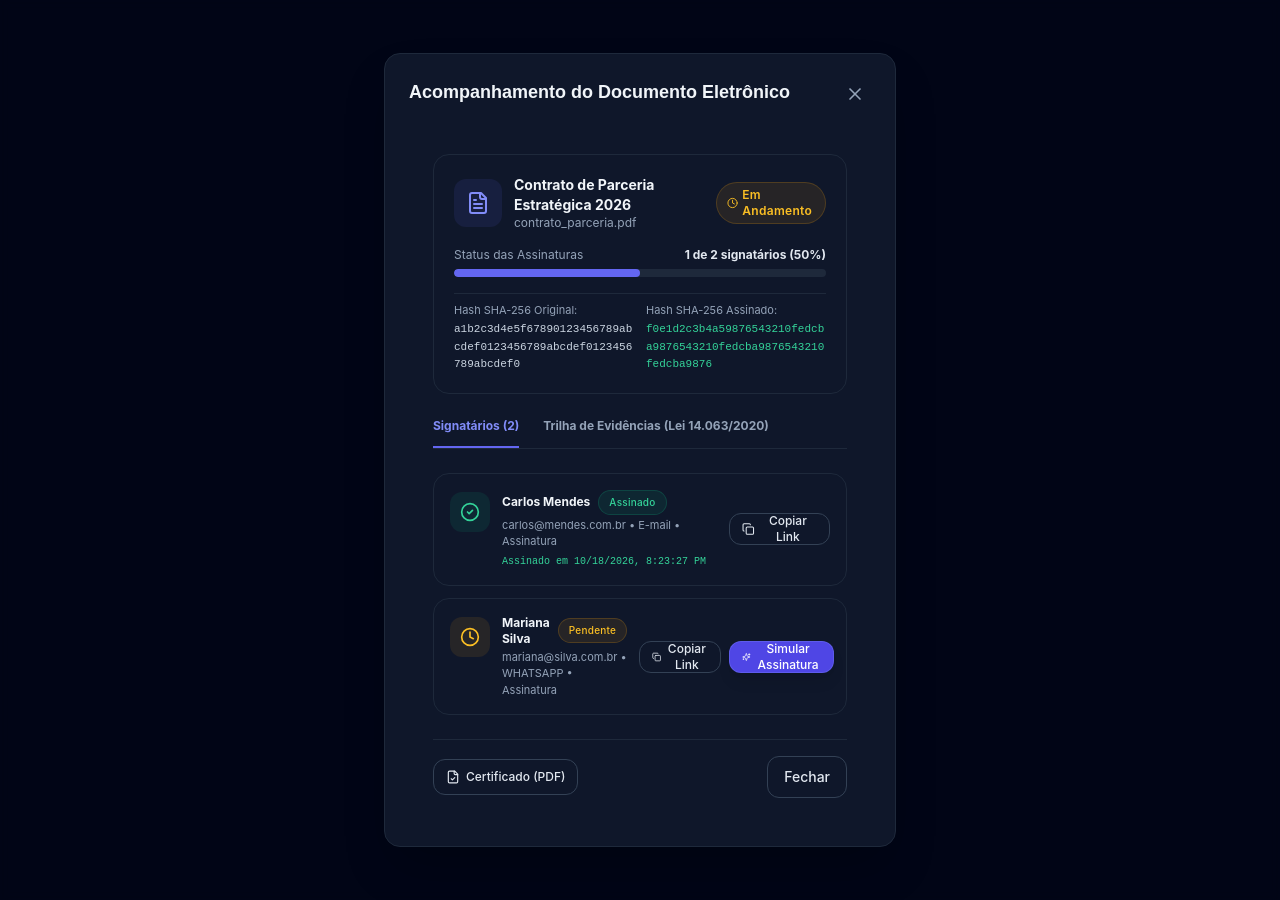
Test: Electronic Signatures Frontend (T-34) › 3. SignatureDetailsModal Component › renders signers list, simulates signing, and switches to evidence audit trail tab
The image size is (1280, 900).
Expected: the heading "Acompanhamento do Documento Eletrônico" is shown, [409, 78, 790, 106]
Expected: the text "Carlos Mendes" is shown, [502, 494, 590, 510]
# Click "Simular Assinatura" on pending signer Mariana Silva
Click the button "Simular Assinatura": (782, 656) [729, 640, 834, 672]
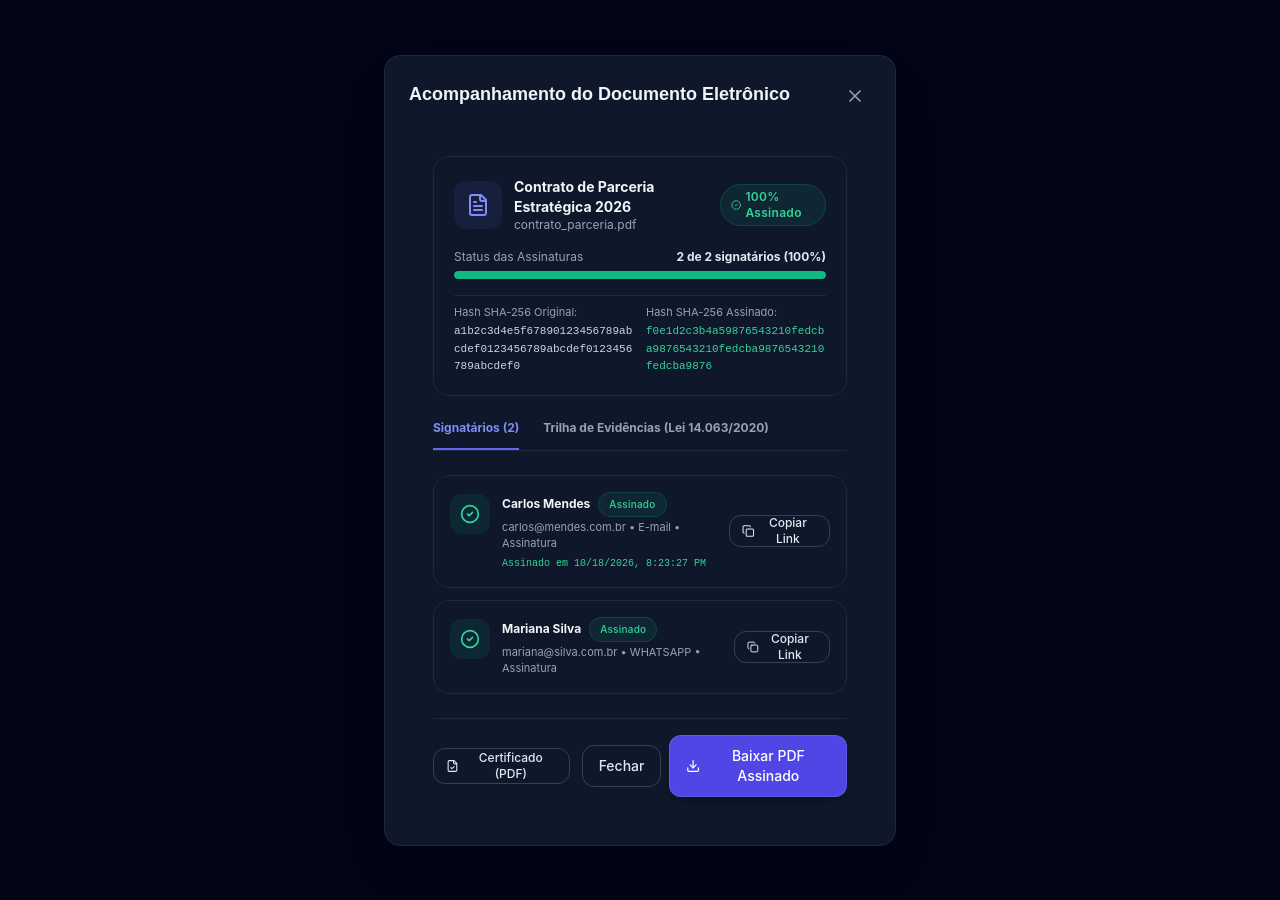
# Switch to Evidence Audit Trail Tab
Click the button "Trilha de Evidências (Lei 14.063/2020)": (656, 434) [543, 420, 769, 450]
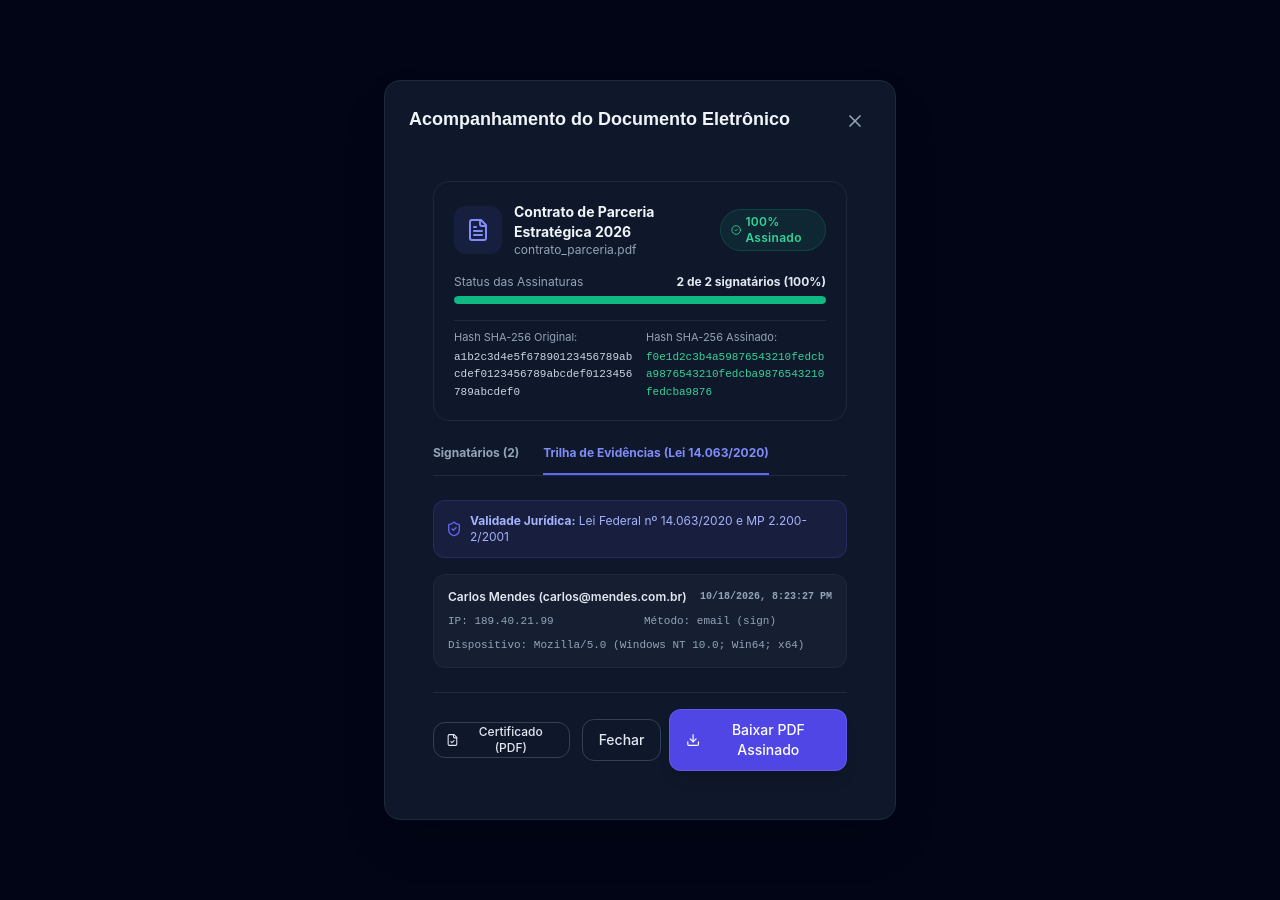
Expected: the text "Validade Jurídica:" is shown, [470, 513, 576, 528]
Expected: the text "IP: 189.40.21.99" is shown, [448, 615, 554, 627]
